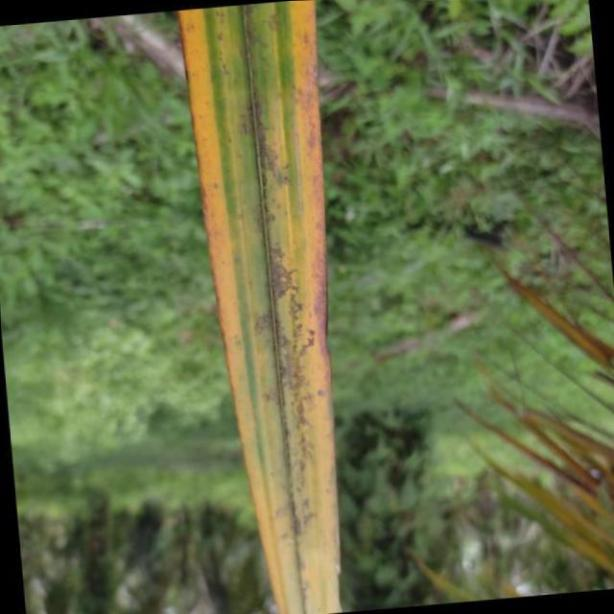Megnesium: (180, 1, 348, 614)
